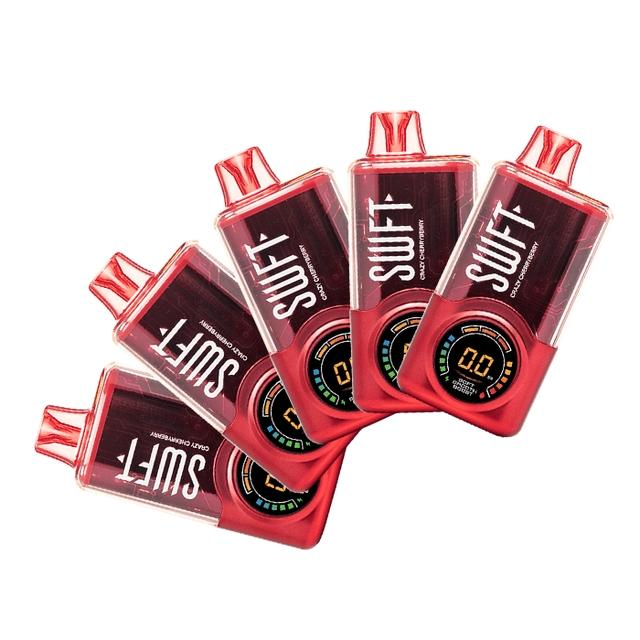Vapes: (34, 109, 612, 549)
